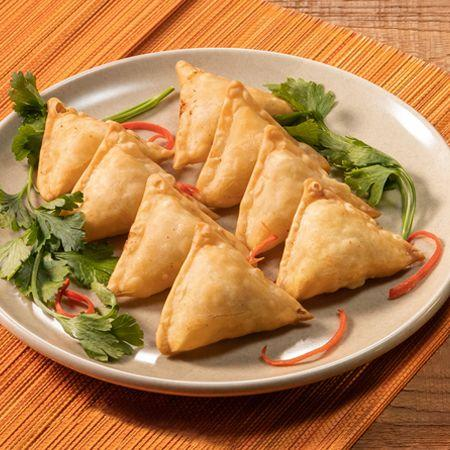samosa: (156, 223, 312, 355), (277, 199, 424, 300), (108, 172, 214, 298), (236, 125, 330, 259), (72, 122, 169, 240), (196, 81, 276, 207), (37, 98, 108, 200), (173, 61, 230, 169), (247, 86, 292, 115)
